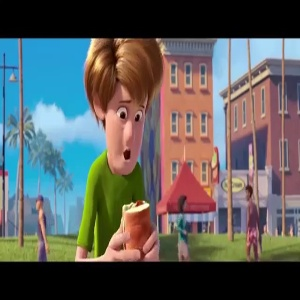Shagy: (76, 36, 164, 175)
